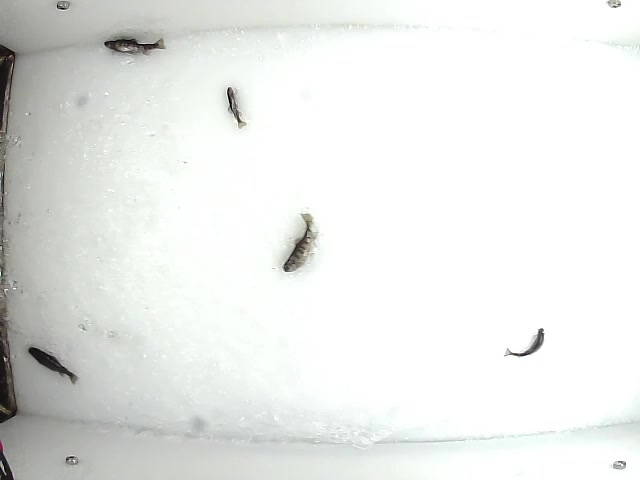fish: (281, 210, 321, 275), (25, 344, 80, 384), (500, 327, 546, 360), (99, 35, 167, 56), (224, 86, 248, 132)
